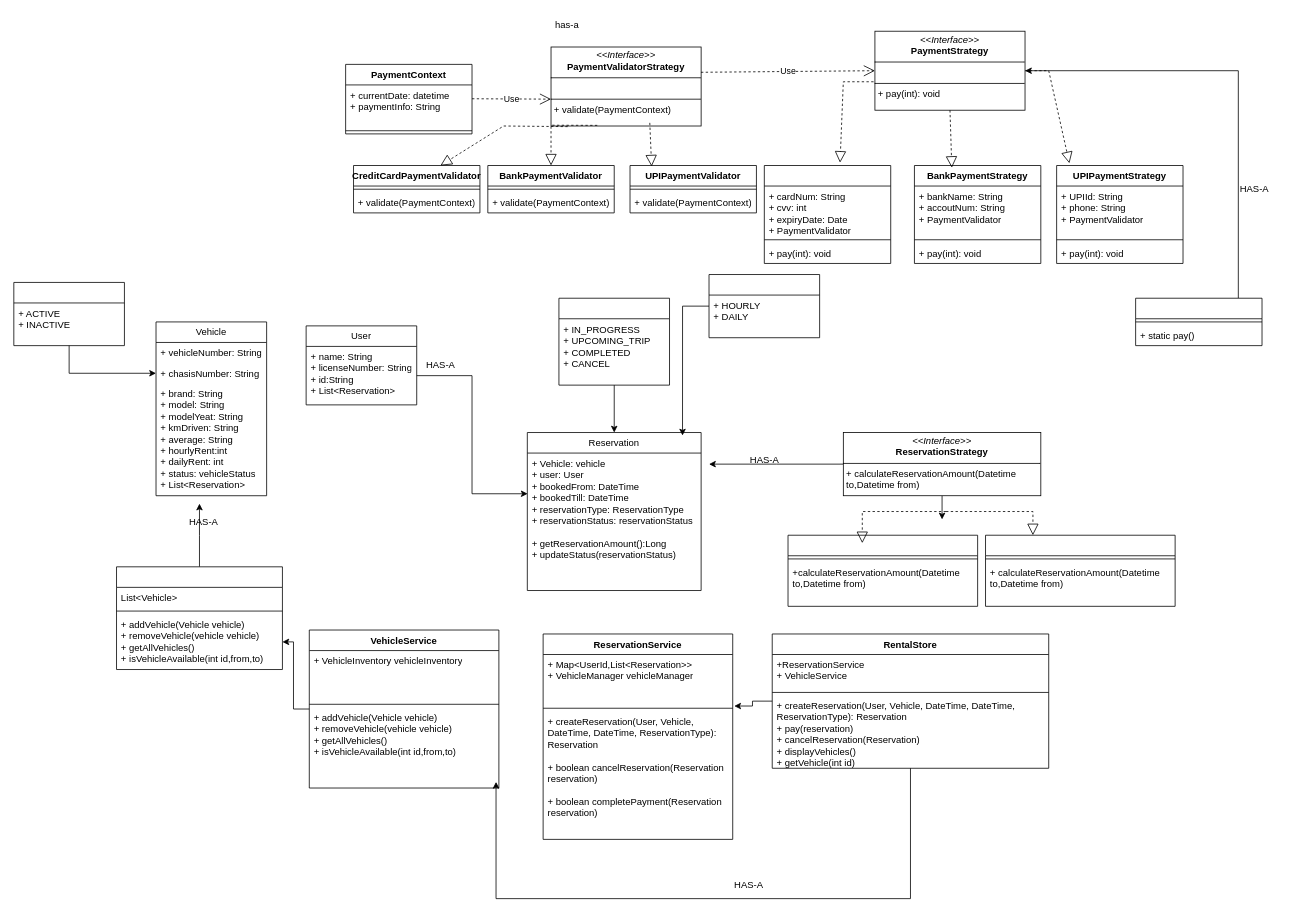
Image size: 1292x919. Some labels were removed from this diagram. Here are the shapes that lost their labels. From the top down, the box of each, then its label:
(764, 165, 891, 263): CreditCardPaymentStrategy
(13, 282, 124, 346): VehicleStatus
(708, 274, 820, 338): ReservationType
(1135, 297, 1262, 346): PayMentManagerFactory
(558, 297, 670, 385): ReservationStatus
(787, 534, 978, 606): HourlyReserveStartegy
(985, 534, 1175, 606): DailyReserveStartegy
(116, 566, 282, 670): VehicleInventory
